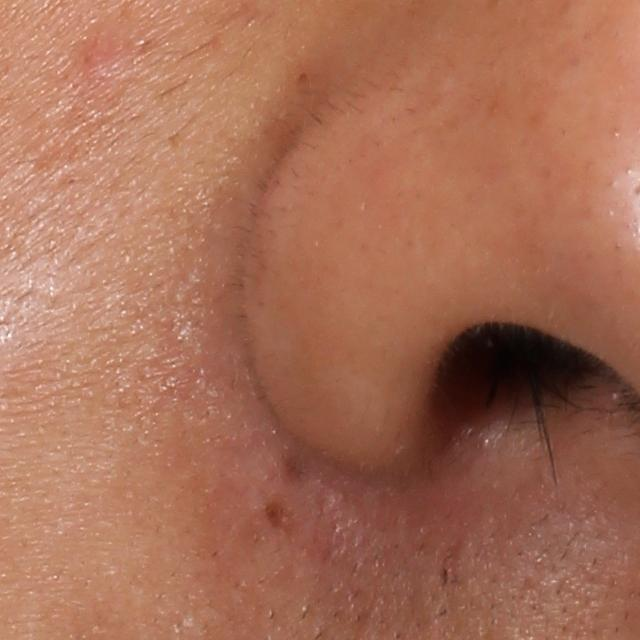papule: (74, 38, 128, 91)
